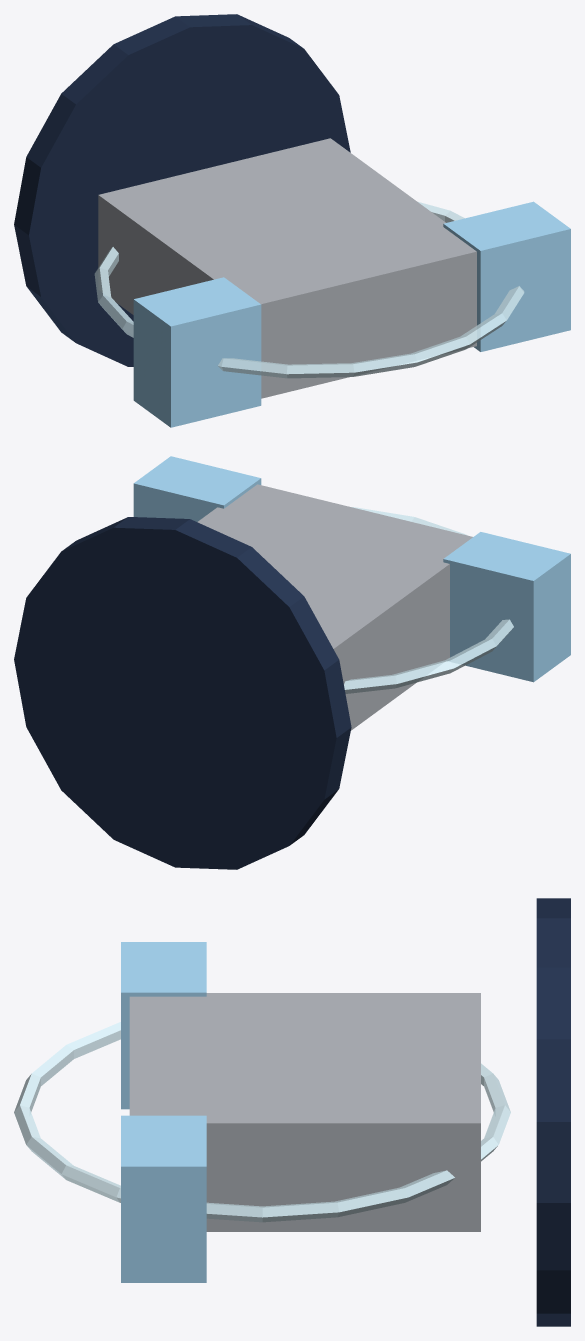
The model's file is 04_high_tier_magic_armor.glb.
3 renders of one model, top to bottom at view 1: azimuth 30°, elevation 25°; view 2: azimuth 150°, elevation 25°; view 3: azimuth 270°, elevation 25°, orthographic. The views are drawn at different scales.
Visible parts, largest first — view 1: chest_plate, armor_display_base, pauldron_l, pauldron_r, armor_barrier_ring; view 2: armor_display_base, chest_plate, pauldron_l, pauldron_r, armor_barrier_ring; view 3: chest_plate, armor_display_base, pauldron_r, armor_barrier_ring, pauldron_l.
Part boxes in pixels (<box>): chest_plate: <box>98,138,476,398</box>; armor_display_base: <box>14,14,350,366</box>; pauldron_l: <box>133,277,261,427</box>; pauldron_r: <box>443,201,570,351</box>; armor_barrier_ring: <box>94,202,524,378</box>; armor_display_base: <box>14,517,351,869</box>; chest_plate: <box>197,484,472,730</box>; pauldron_l: <box>443,532,570,682</box>; pauldron_r: <box>133,456,261,521</box>; armor_barrier_ring: <box>344,507,513,693</box>; chest_plate: <box>129,993,480,1231</box>; armor_display_base: <box>536,898,570,1326</box>; pauldron_r: <box>121,1115,206,1282</box>; armor_barrier_ring: <box>14,1022,510,1222</box>; pauldron_l: <box>121,942,206,1109</box>.
Bounding box in the file's own units: 1.24 × 1 × 1.3.
